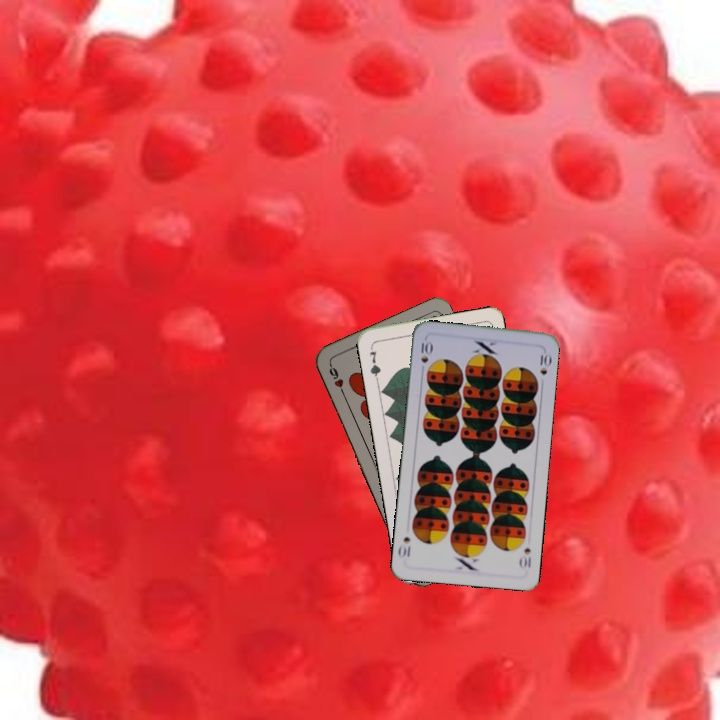G7: (365, 342, 383, 382)
H9: (325, 360, 348, 398)
S10: (417, 335, 434, 376), (516, 544, 534, 571)
